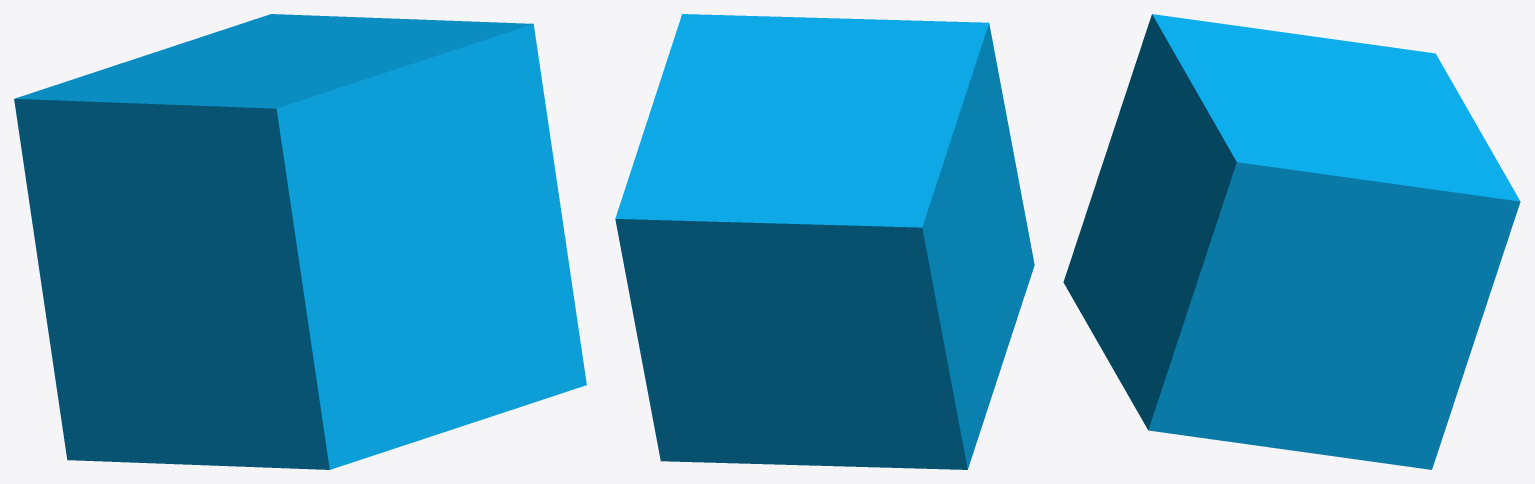
Rendered from cubocubico.glb.
3 views of the same model, side by side, from view 1: azimuth 30°, elevation 25°; view 2: azimuth 150°, elevation 25°; view 3: azimuth 270°, elevation 25° (orthographic). The views are drawn at different scales.
Size of the model in its own units: 1.24 by 1.31 by 1.48.
